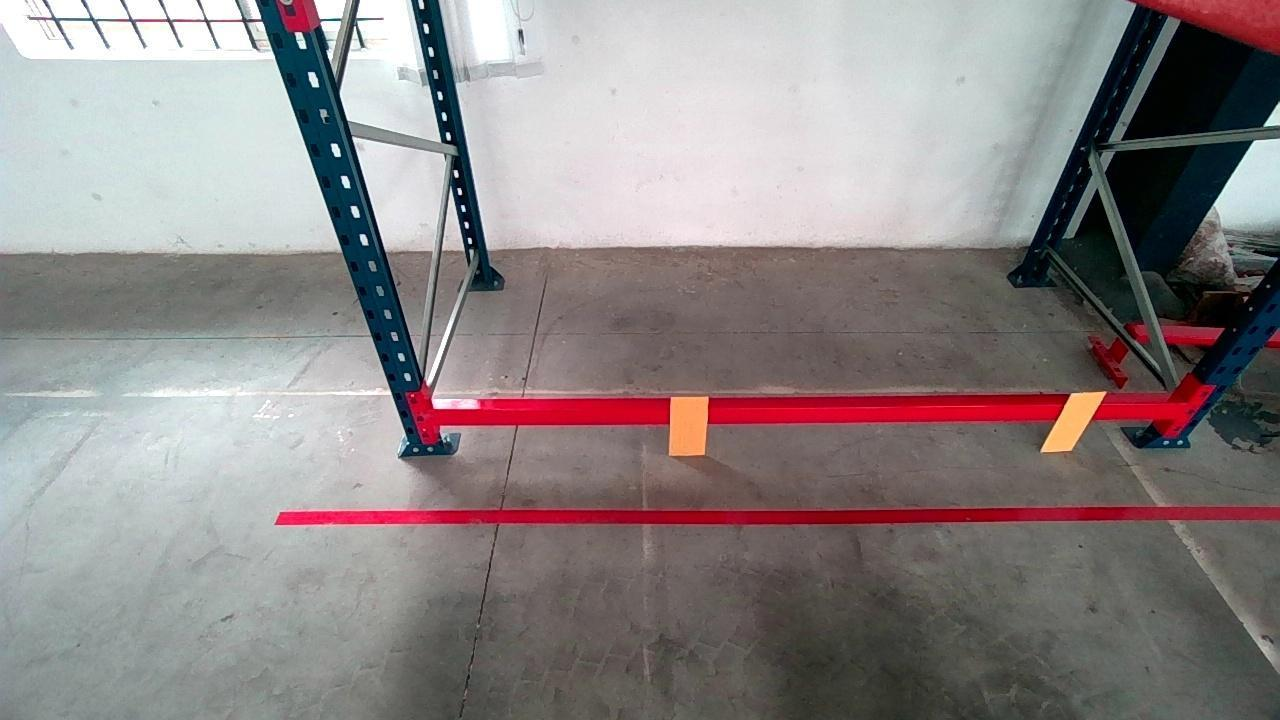h_rack: (434, 406, 1189, 427)
orange_strip: (1042, 390, 1109, 450), (670, 394, 708, 454)
red_line: (278, 505, 1280, 524)
